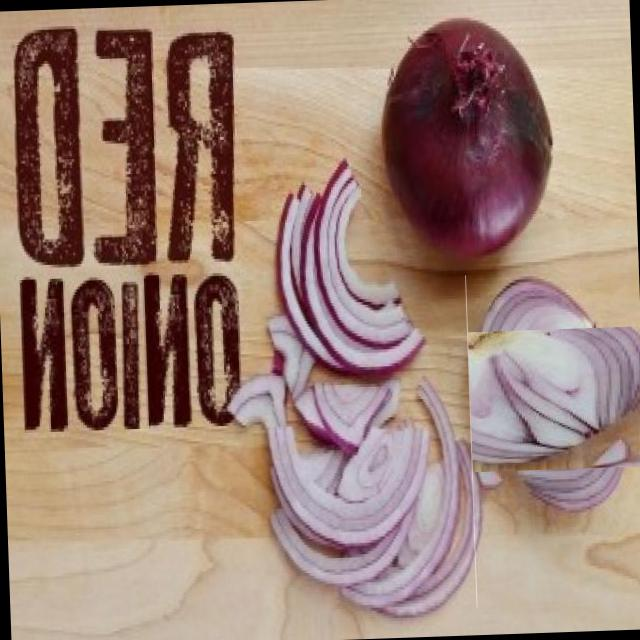Onion: (243, 274, 477, 614), (389, 0, 568, 257), (445, 304, 638, 496)
